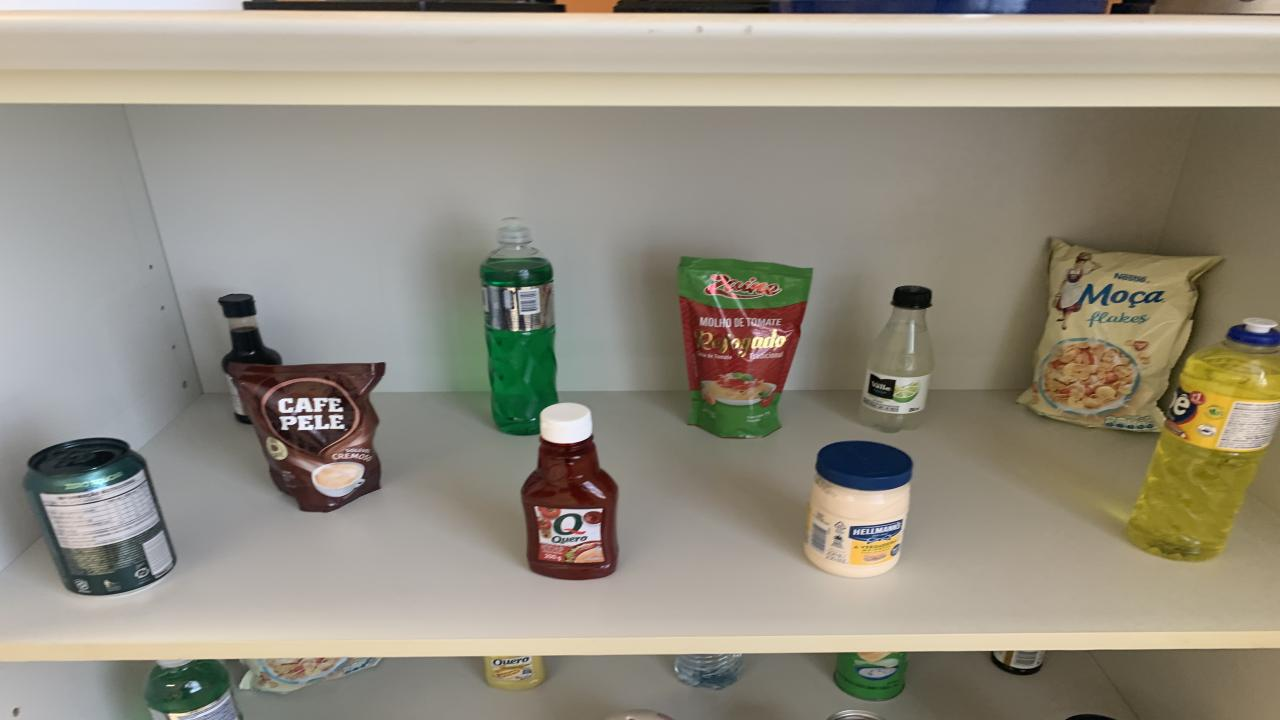Coffee-Pantry_Items: (228, 362, 385, 512)
Detergent-Cleanup_Items: (1128, 319, 1280, 561), (480, 218, 558, 435), (145, 660, 240, 720)
English_Sauce-Pantry_Items: (220, 294, 282, 373), (990, 651, 1045, 675), (230, 382, 250, 424)
Flakes-Snacks: (1018, 238, 1220, 431), (240, 658, 380, 694)
Guarana_Can-Drinks: (22, 437, 175, 596)
Ketchup-Pantry_Items: (520, 403, 618, 579)
Mayonnaise-Pantry_Items: (805, 441, 912, 578)
Mustard-Pantry_Items: (485, 656, 548, 690)
Pringles-Snacks: (835, 652, 908, 701)
Soda-Drinks: (860, 287, 935, 433)
Tomato_Sauce-Pantry_Items: (678, 257, 812, 437)
Water_Bottle-Drinks: (675, 654, 742, 690)
